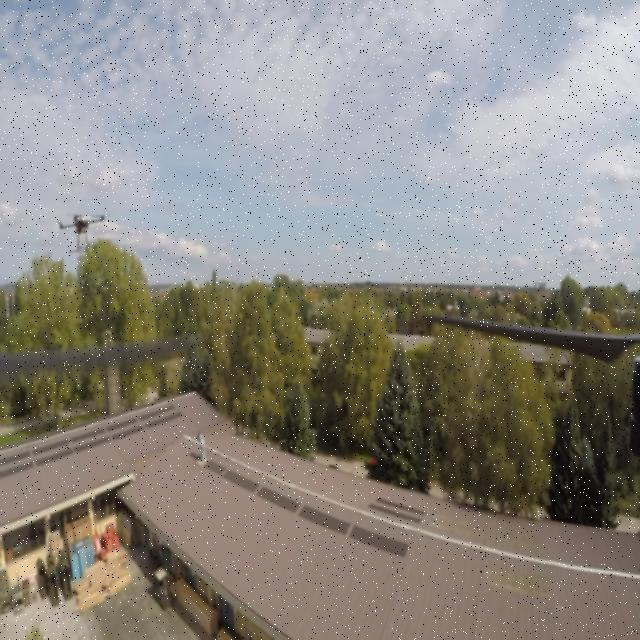UAV: (49, 203, 113, 257)
